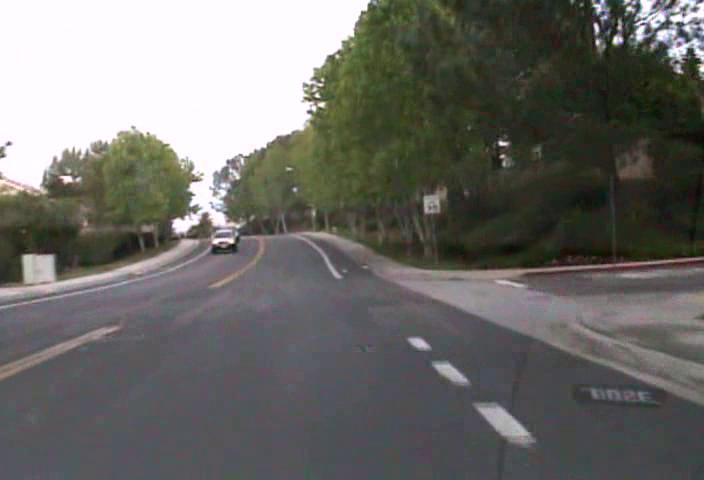speedLimitUrdbl: (422, 192, 441, 215)
